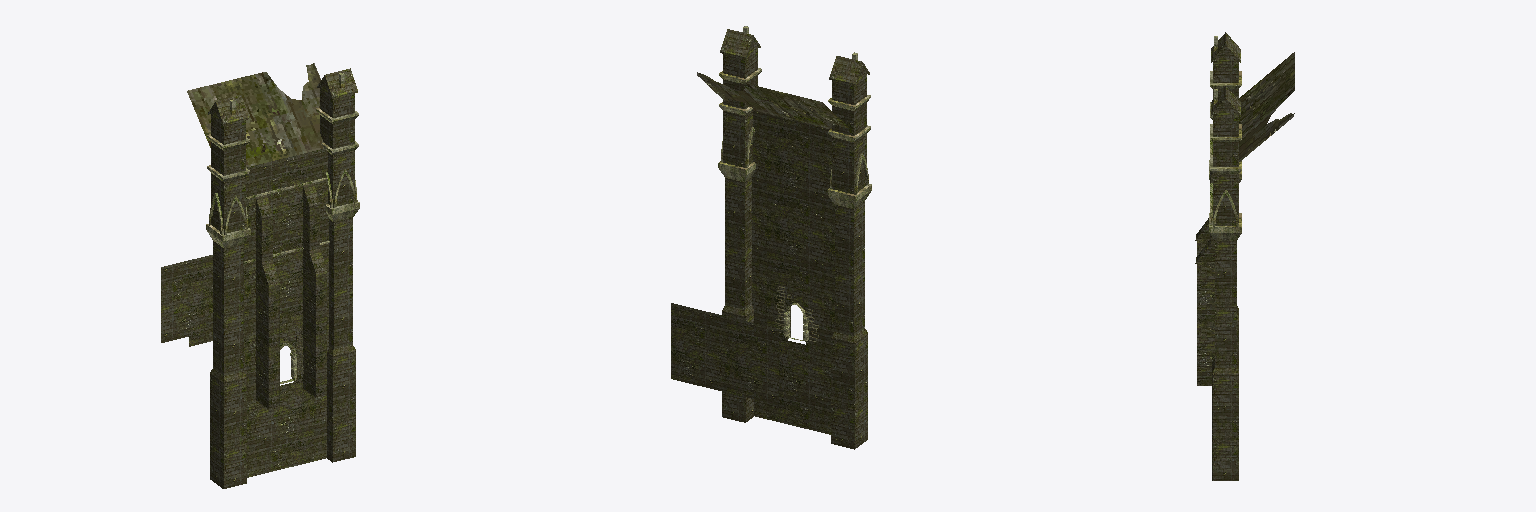
3 renders of one model, left to right at view 1: azimuth 30°, elevation 25°; view 2: azimuth 150°, elevation 25°; view 3: azimuth 270°, elevation 25°, orthographic.
Parts seen in each view (by area): view 1: mesh0, mesh1; view 2: mesh0, mesh1; view 3: mesh0, mesh1.
Boxes of the visible parts, x1=… form: mesh0: x1=161, y1=63, x2=357, y2=488; mesh1: x1=206, y1=73, x2=359, y2=383; mesh0: x1=671, y1=29, x2=869, y2=449; mesh1: x1=718, y1=26, x2=871, y2=341; mesh0: x1=1195, y1=32, x2=1294, y2=480; mesh1: x1=1209, y1=36, x2=1241, y2=240.
Bounding box in the file's own units: 13.28 × 35.47 × 14.14.
Materials: 2 (2 with a texture image).